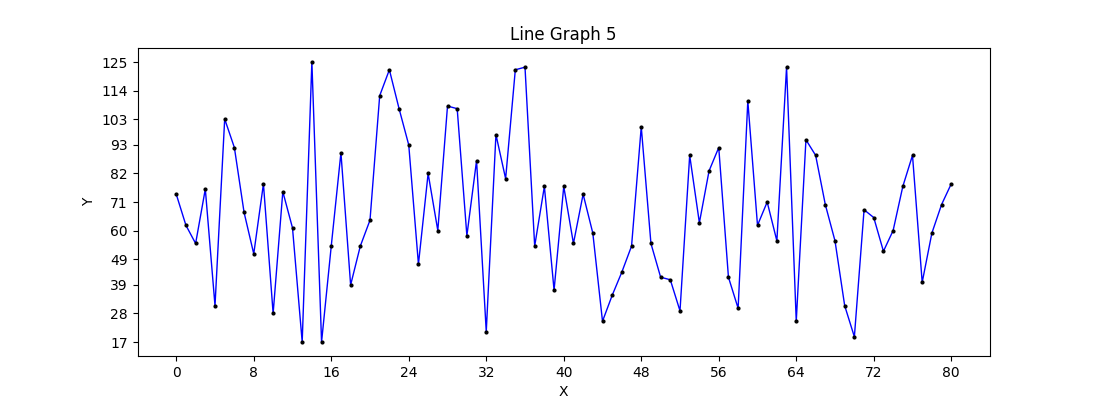cvs: (138, 48, 990, 356)
